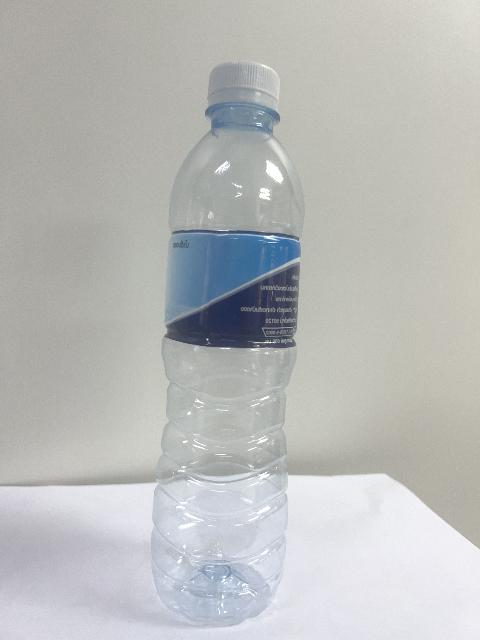bottle: (151, 62, 302, 626)
